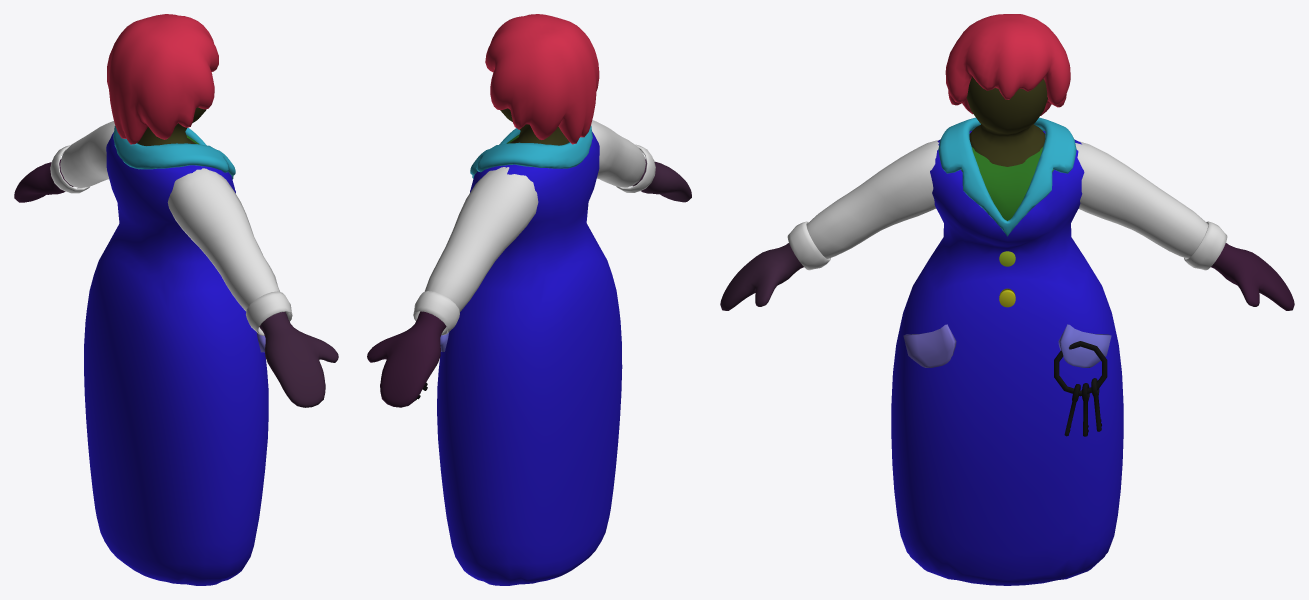
File: amadeshaves_junts.fbx
3 renders of one model, left to right at view 1: azimuth 30°, elevation 25°; view 2: azimuth 150°, elevation 25°; view 3: azimuth 270°, elevation 25°, orthographic.
Visible parts, largest first — view 1: Cube.003; view 2: Cube.003; view 3: Cube.003.
Part boxes in pixels (left/top/right/bottom): Cube.003: left=14, top=14, right=338, bottom=585; Cube.003: left=367, top=14, right=691, bottom=585; Cube.003: left=720, top=14, right=1294, bottom=585.
Bounding box in the file's own units: 21.59 × 72.8 × 69.95.
